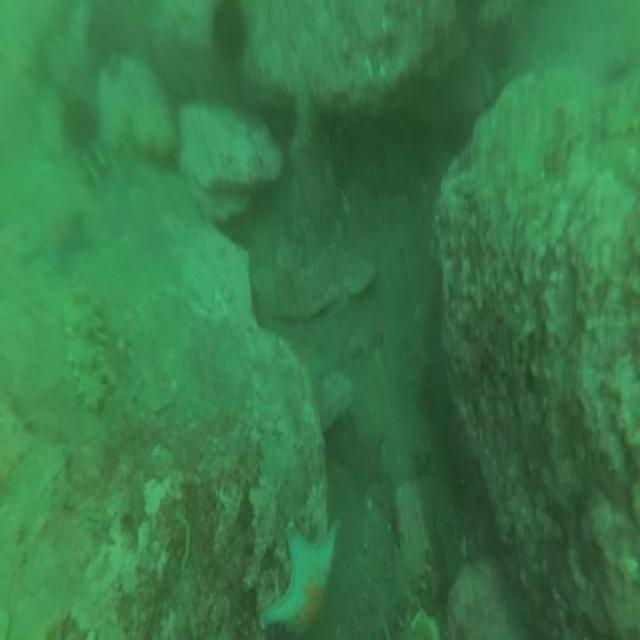echinus: (208, 0, 253, 74), (417, 356, 457, 433), (86, 0, 126, 71), (59, 88, 102, 152)
holothurian: (347, 521, 433, 640), (57, 282, 113, 424), (77, 112, 137, 193), (596, 73, 640, 144)
starfish: (256, 516, 342, 640)
